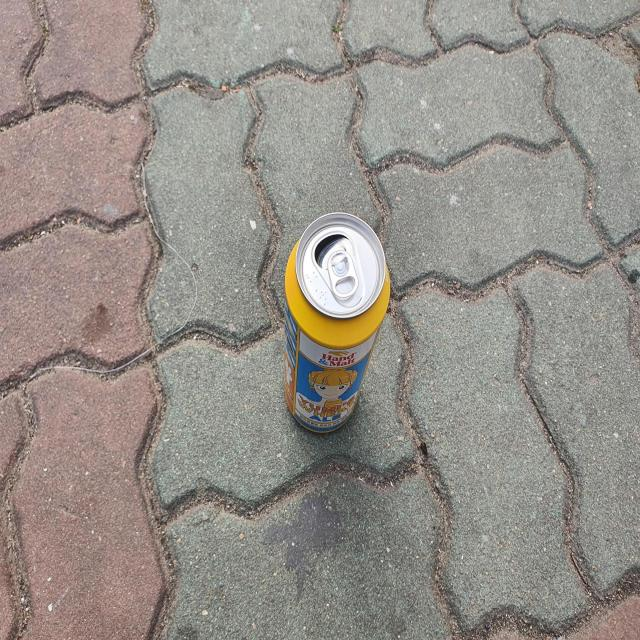can: (284, 212, 391, 432)
